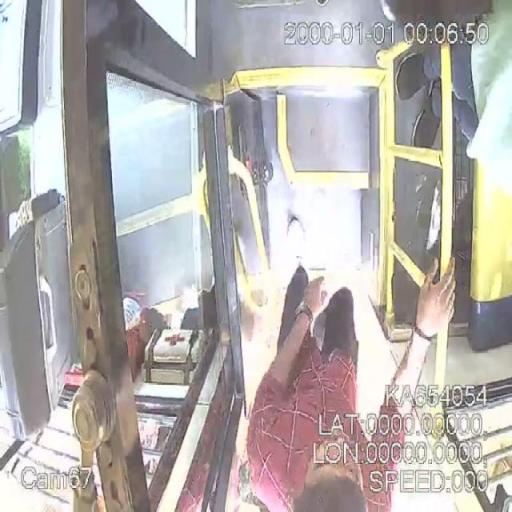persona: (240, 254, 458, 512)
